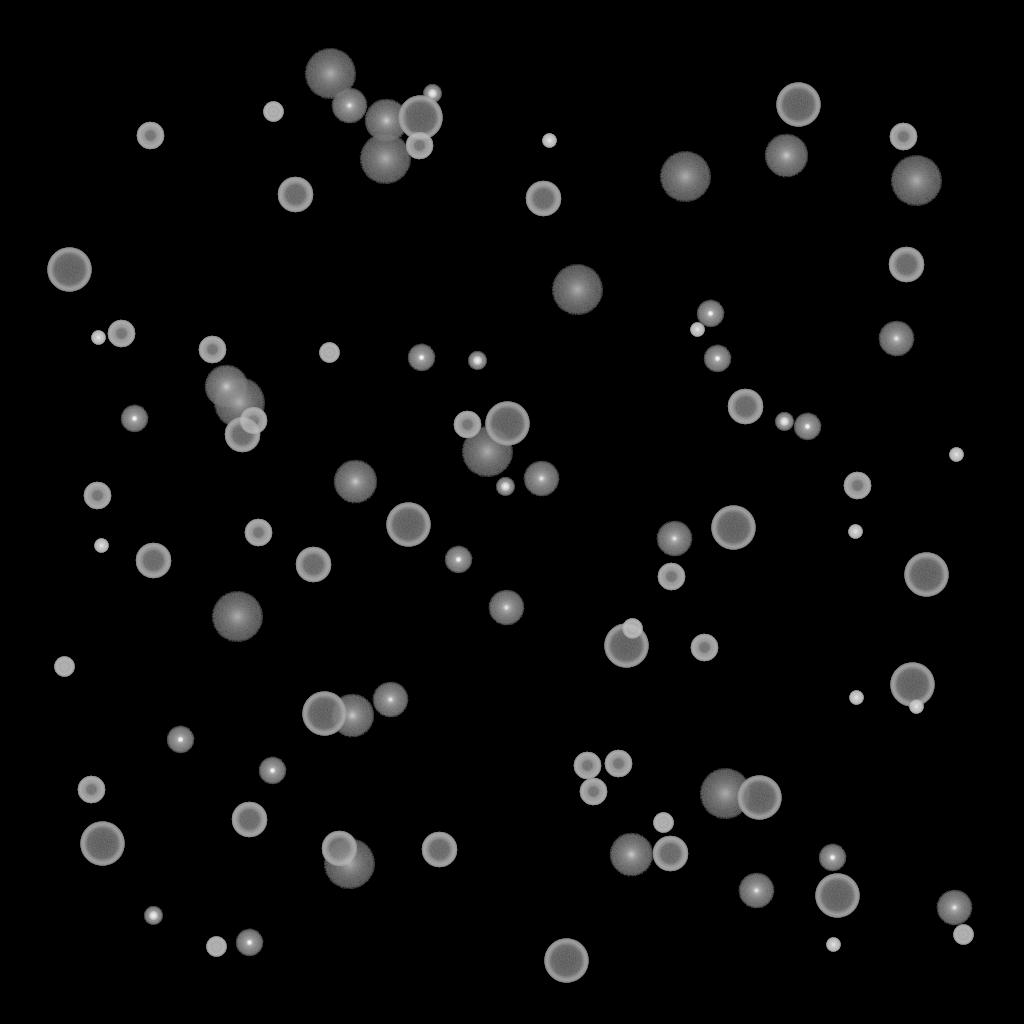depth:-10: (258, 757, 286, 785), (235, 929, 263, 957), (793, 413, 821, 441), (818, 844, 846, 872), (166, 726, 194, 754), (120, 405, 148, 433), (407, 344, 435, 372), (444, 546, 472, 574), (696, 300, 724, 328), (703, 345, 731, 373)
depth:-20: (144, 907, 162, 925), (423, 85, 441, 103), (468, 352, 486, 370), (496, 478, 514, 496), (775, 413, 793, 431)
depth:-30: (849, 691, 863, 705), (909, 700, 923, 714), (848, 525, 862, 539), (826, 938, 840, 952), (949, 448, 963, 462), (91, 331, 105, 345), (542, 134, 556, 148), (94, 539, 108, 553), (690, 323, 704, 337)
depth:-40: (206, 937, 226, 957), (263, 102, 283, 122), (54, 657, 74, 677), (622, 619, 642, 639), (953, 925, 973, 945), (319, 343, 339, 363), (653, 813, 673, 833)
depth:-50: (579, 778, 607, 806), (453, 411, 481, 439), (604, 750, 632, 778), (657, 563, 685, 591), (136, 122, 164, 150), (77, 776, 105, 804), (573, 752, 601, 780), (889, 123, 917, 151), (690, 634, 718, 662), (239, 407, 267, 435), (83, 482, 111, 510), (405, 132, 433, 160), (107, 320, 135, 348), (244, 519, 272, 547), (198, 336, 226, 364), (843, 472, 871, 500)
depth:-60: (888, 247, 924, 283), (224, 417, 260, 453), (295, 547, 331, 583), (277, 177, 313, 213), (727, 389, 763, 425), (652, 836, 688, 872), (135, 543, 171, 579), (321, 831, 357, 867), (231, 802, 267, 838), (421, 832, 457, 868), (525, 181, 561, 217)
depth:-70: (544, 939, 588, 983), (776, 83, 820, 127), (904, 553, 948, 597), (485, 402, 529, 446), (386, 503, 430, 547), (398, 96, 442, 140), (47, 248, 91, 292), (890, 663, 934, 707), (80, 822, 124, 866), (302, 692, 346, 736), (815, 874, 859, 918), (711, 506, 755, 550), (737, 776, 781, 820), (604, 624, 648, 668)
depth:0: (331, 88, 367, 124), (738, 873, 774, 909), (936, 890, 972, 926), (523, 461, 559, 497), (372, 682, 408, 718), (488, 590, 524, 626), (878, 321, 914, 357), (656, 521, 692, 557)
depth:10: (609, 833, 653, 877), (330, 694, 374, 738), (364, 99, 408, 143), (333, 460, 377, 504), (764, 134, 808, 178), (204, 365, 248, 409)
depth:20: (211, 592, 263, 642), (359, 134, 411, 184), (213, 378, 265, 428), (461, 427, 513, 477), (304, 49, 356, 99), (699, 769, 751, 819), (890, 156, 942, 206), (323, 839, 375, 889), (551, 265, 603, 315), (659, 152, 711, 202)
